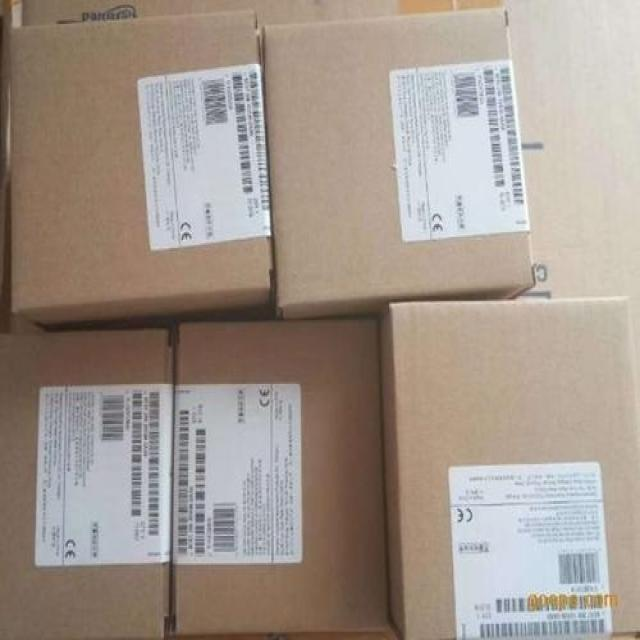box: (379, 296, 640, 638), (262, 8, 538, 318), (8, 10, 273, 331), (173, 318, 392, 635), (0, 330, 173, 638)
